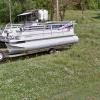Boat: (3, 13, 83, 65)
